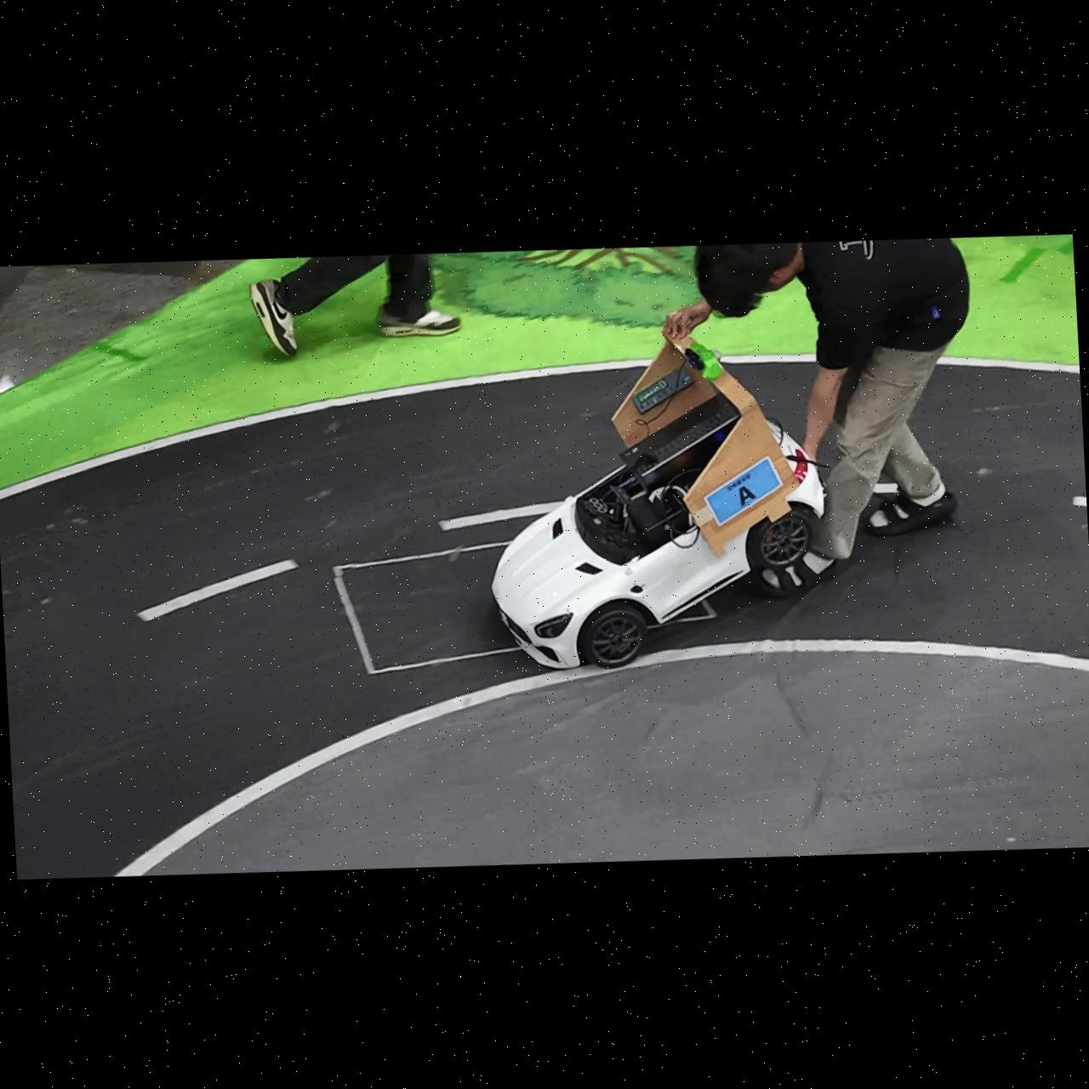broken_line: (137, 559, 298, 620), (438, 502, 559, 530), (875, 483, 899, 493), (1073, 495, 1086, 506)
